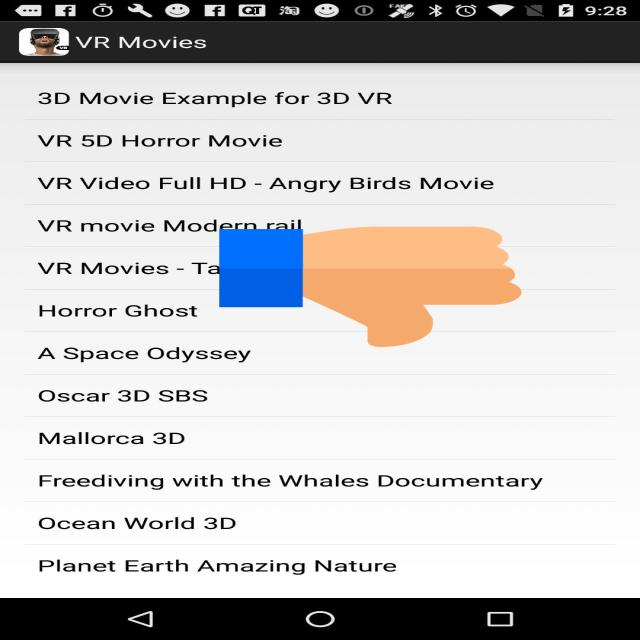obstruction: (219, 224, 522, 350)
